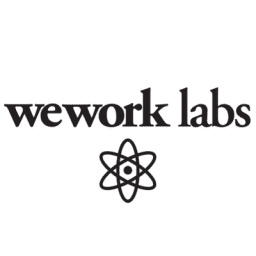wework: (3, 86, 173, 130)
